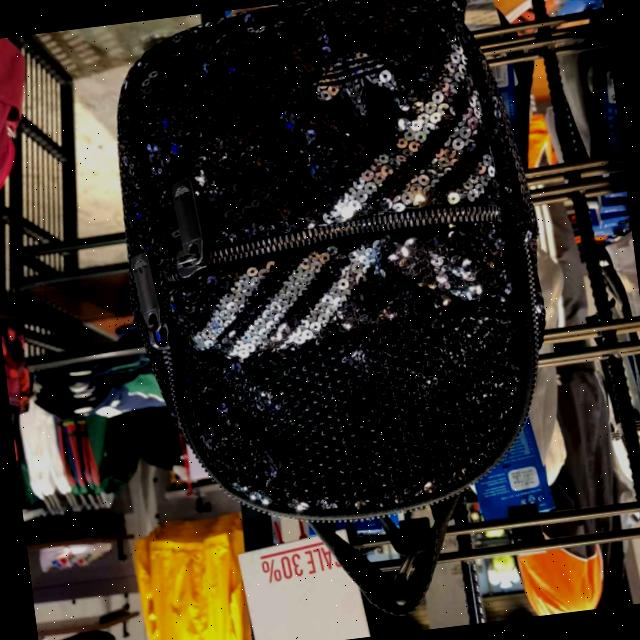Handbag: (98, 0, 562, 547)
